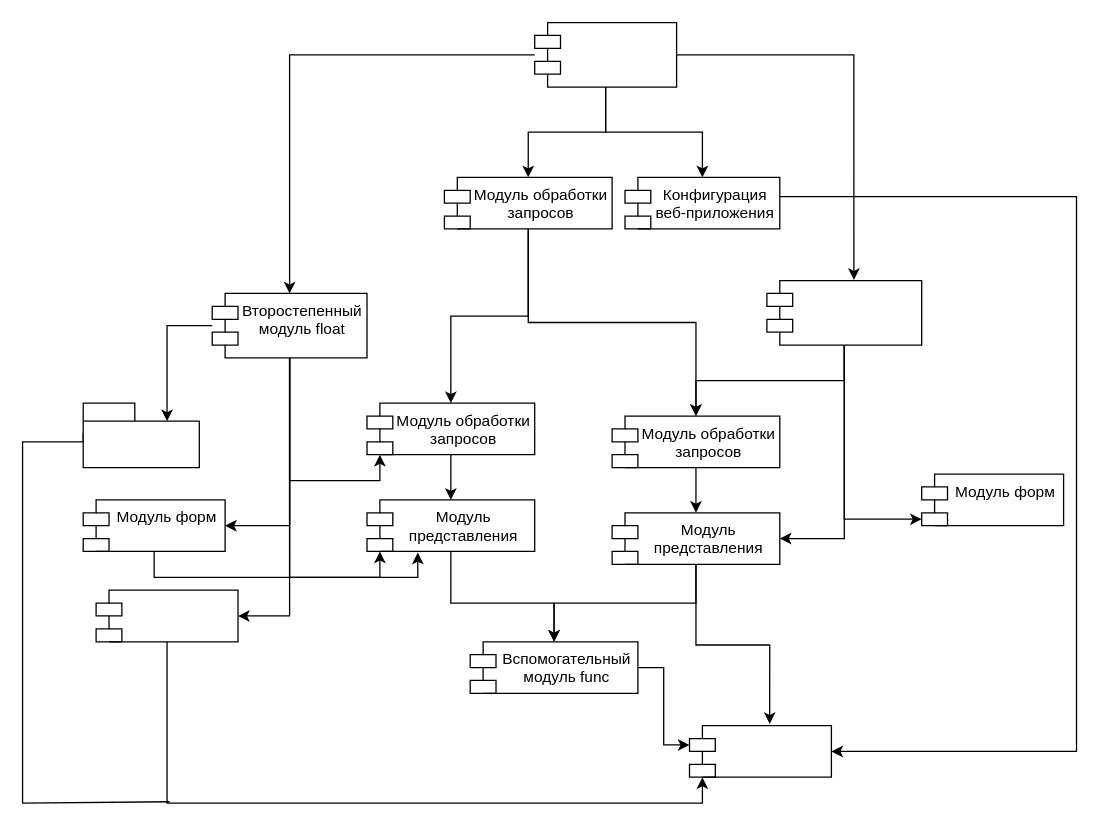
Some shapes in this 1109 by 836 pixel diagram are drawn without their labels. Here are the shapes that lost their labels. From the top down, the centre of each, then its label:
[605,54]: Главный модуль webanalysis
[844,312]: Второстепенный модуль user
[140,435]: Миграции
[166,615]: Модуль моделей
[759,750]: База Данных
